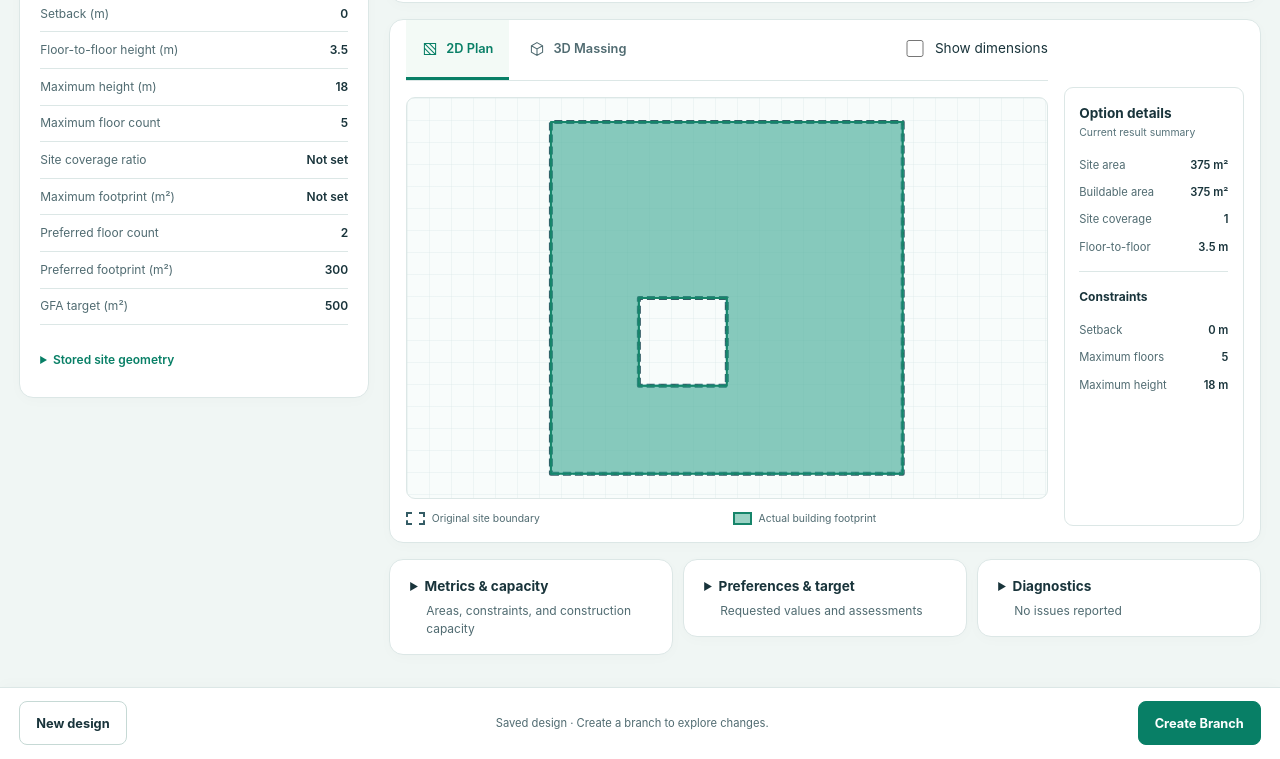
it: MassingWorkspace saved snapshots › restores a persisted nested child and creates a separate grandchild using its exact site and parent ID
(page scrolled)
Click the button "Create Branch" at [1199, 723], box [1138,701,1261,745]
(page scrolled)
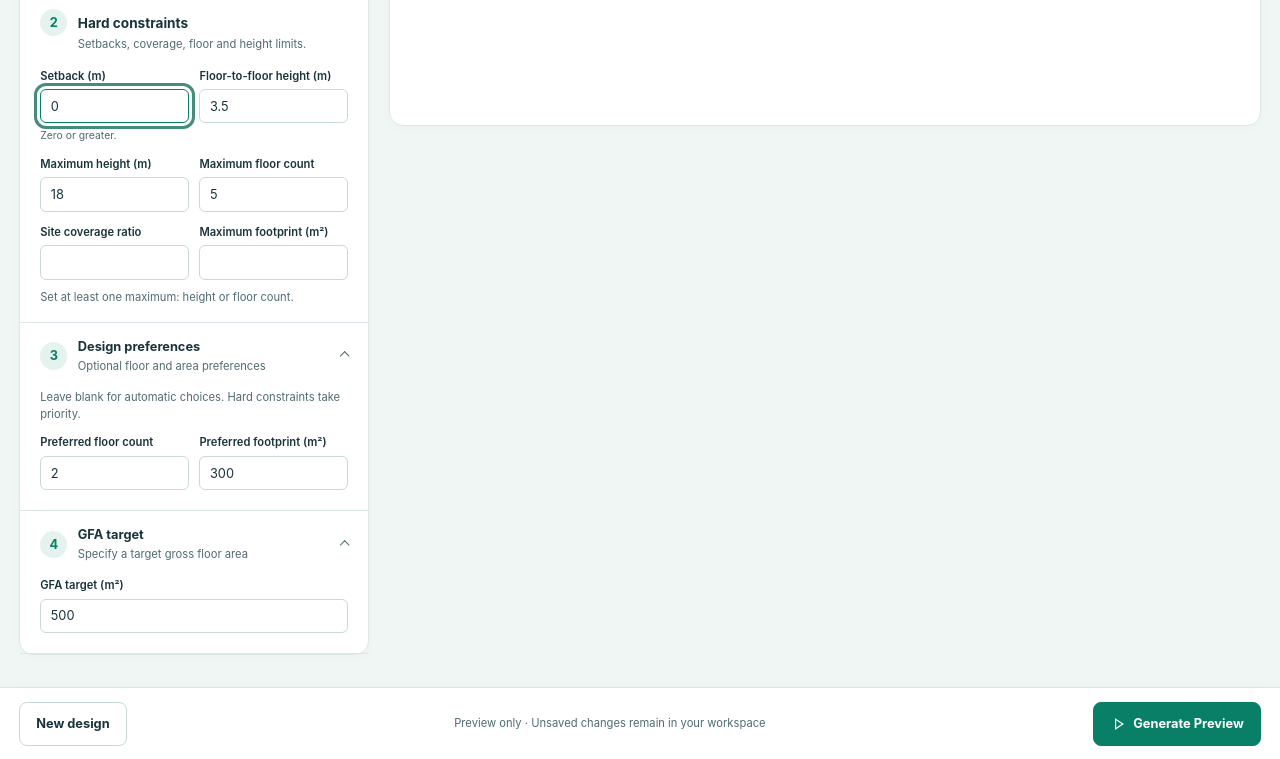
expect the field labelled "Maximum height (m)" holds "18": met, box [40,178,189,212]
expect the field labelled "Maximum floor count" holds "5": met, box [199,178,348,212]
expect the field labelled "Preferred floor count" holds "2": met, box [40,456,189,490]
Click the button "Generate Preview" at [1177, 724], box [1093,702,1261,746]
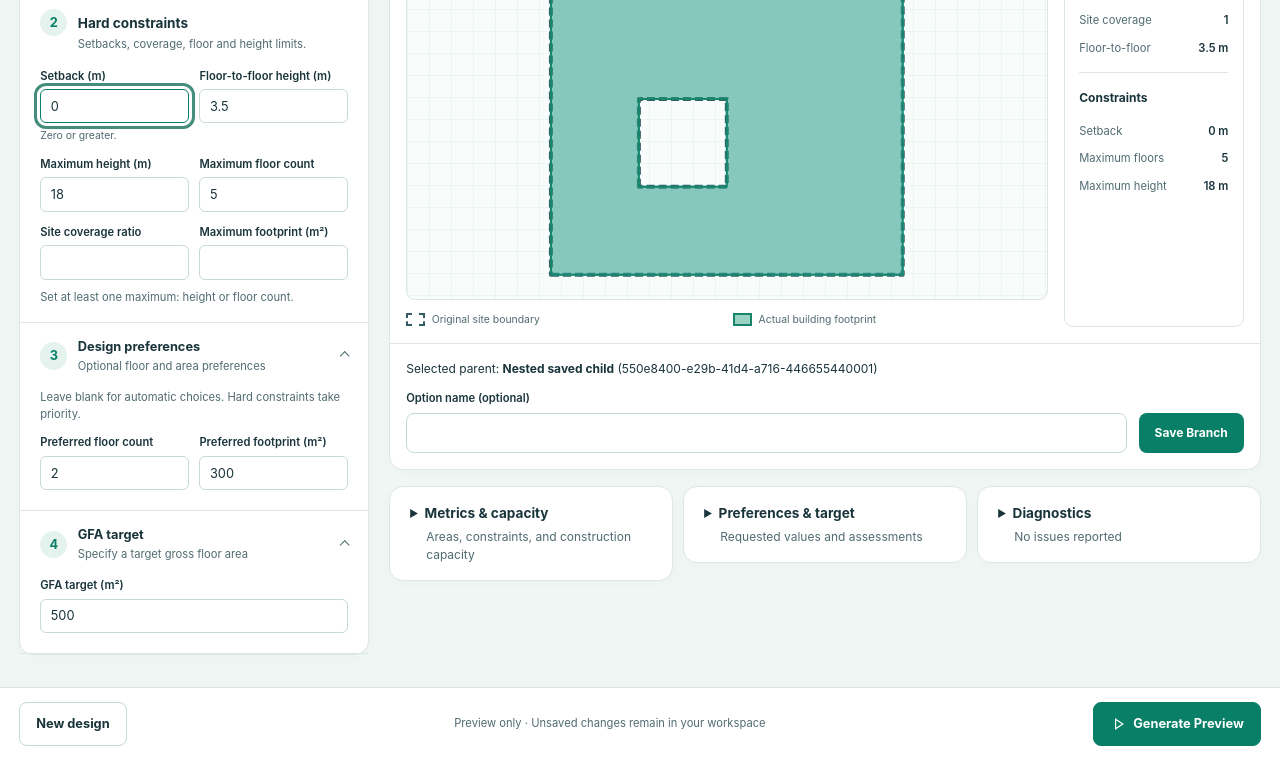
Click the button "Save Branch" at [1191, 433], box [1139,413,1244,453]
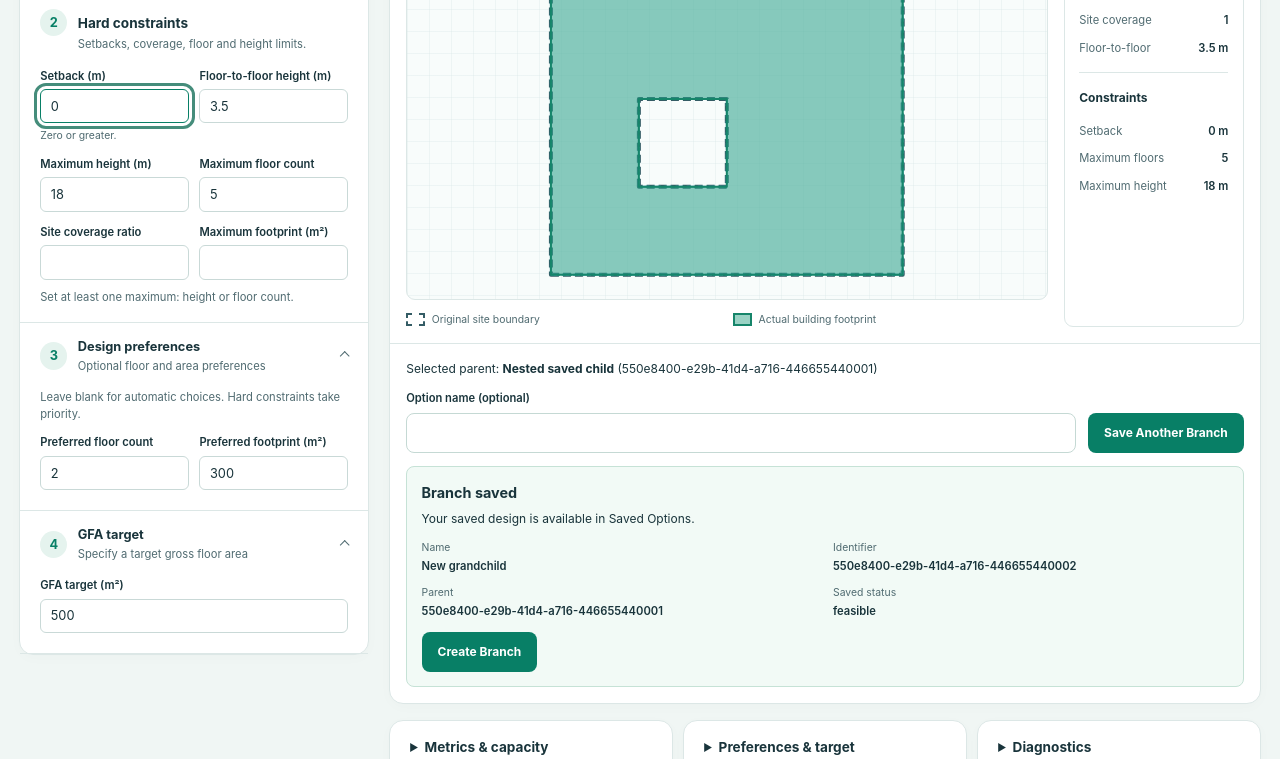
expect the heading "Branch saved" is shown: met, box [422,484,517,501]
expect the text "550e8400-e29b-41d4-a716-446655440002" is shown: met, box [833,559,1077,573]
